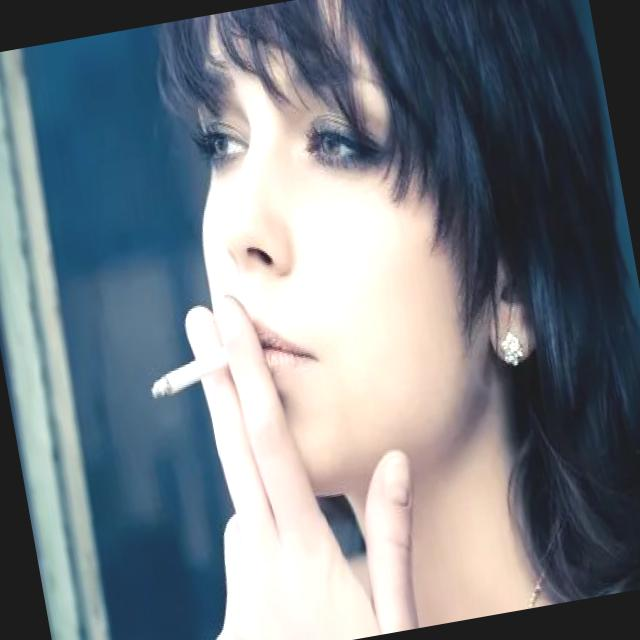smoke: (141, 339, 242, 408)
